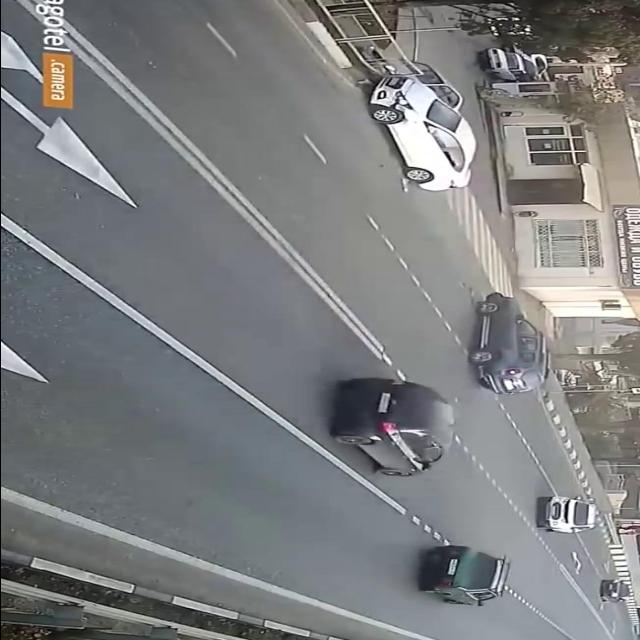accident: (352, 52, 492, 200)
